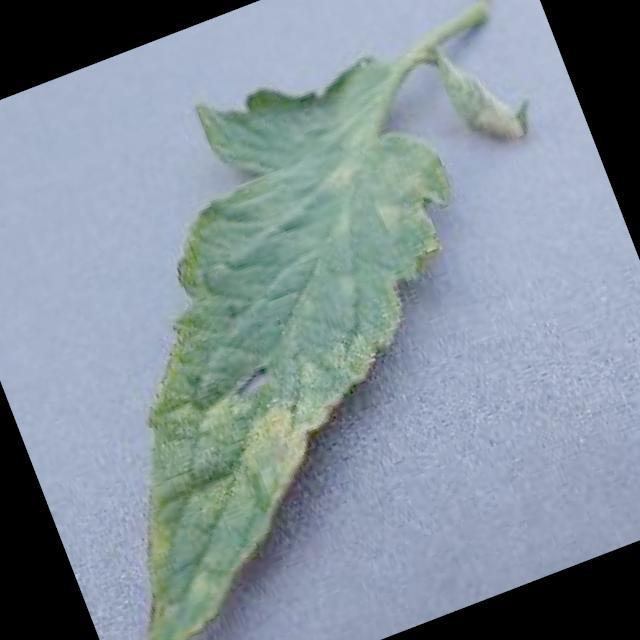Tomato mold leaf: (0, 29, 590, 640)
